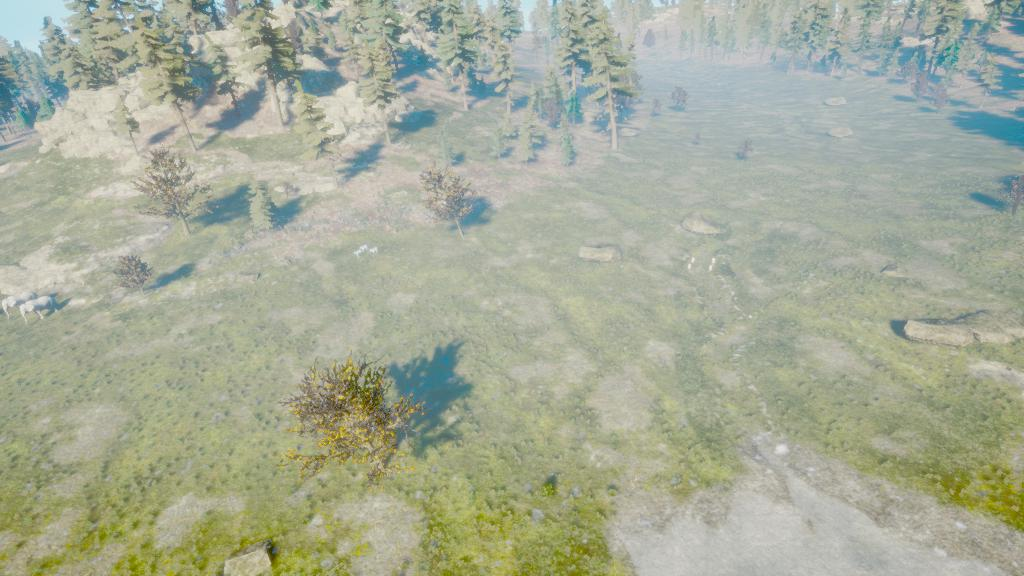elephant: (0, 283, 66, 334)
